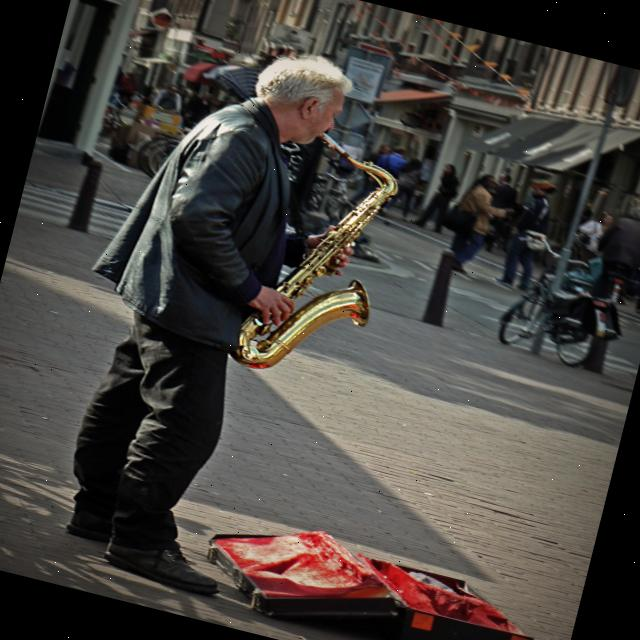saxophone: (224, 122, 422, 400)
